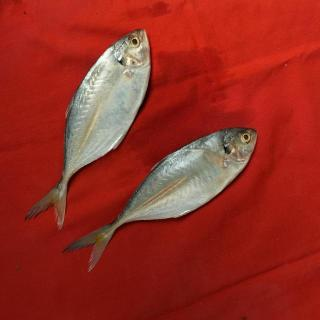Ikan: (25, 25, 277, 277)
